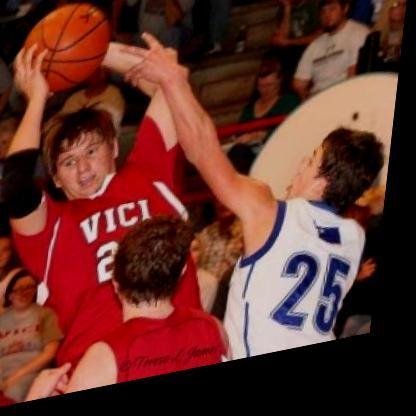basketball: (12, 0, 121, 108)
